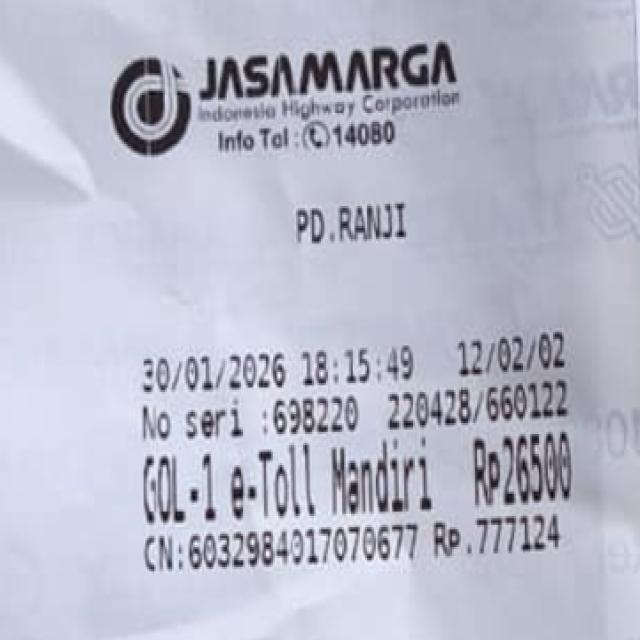date: (139, 346, 420, 384)
store: (199, 44, 473, 108)
total: (468, 435, 577, 514)
